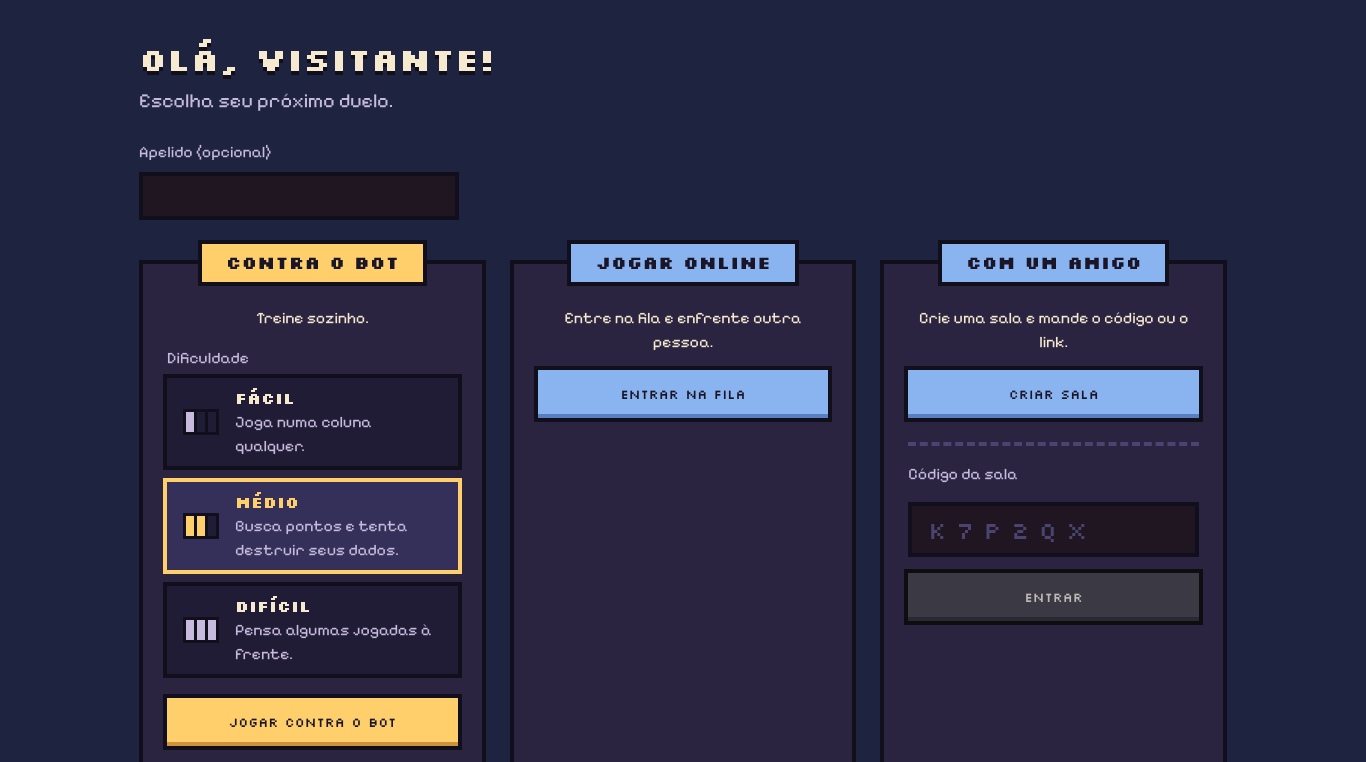
Lobby › avisa quando a partida contra o bot não pode ser criada
Click the button "Jogar contra o bot". click: (312, 722)
box: [167,698,458,746]
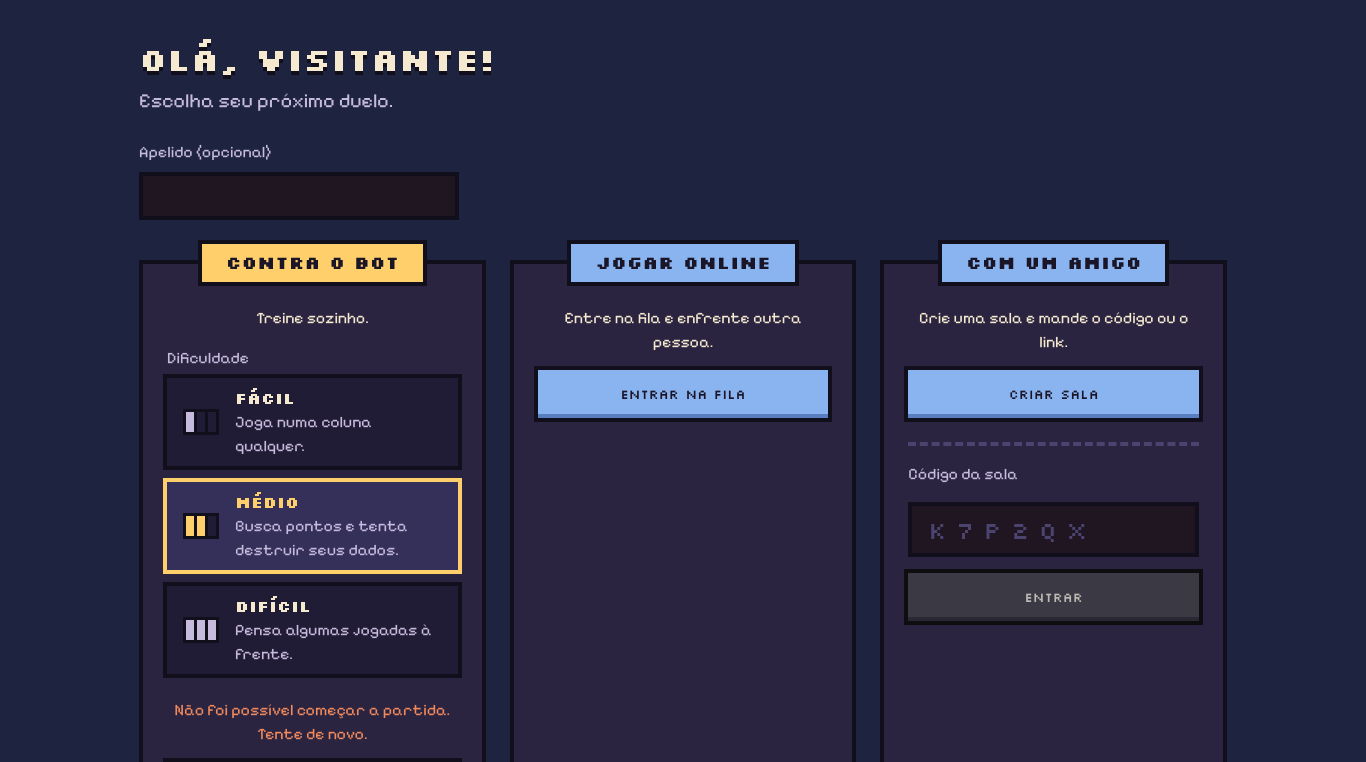
Check: the message shows "Não foi possível começar a partida", box [174,700,450,743]
